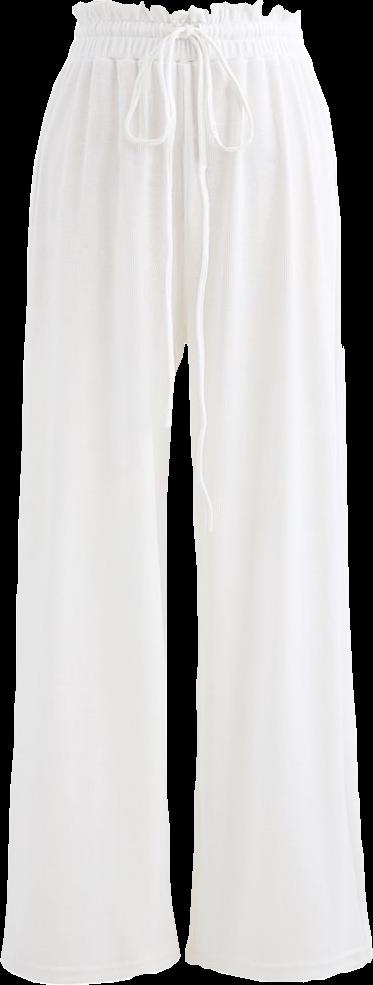Hemline: (181, 950, 372, 984), (0, 952, 181, 984)
Pantleg: (181, 1, 371, 980), (2, 0, 188, 982)
Waistline: (69, 36, 308, 57), (75, 0, 300, 21)
